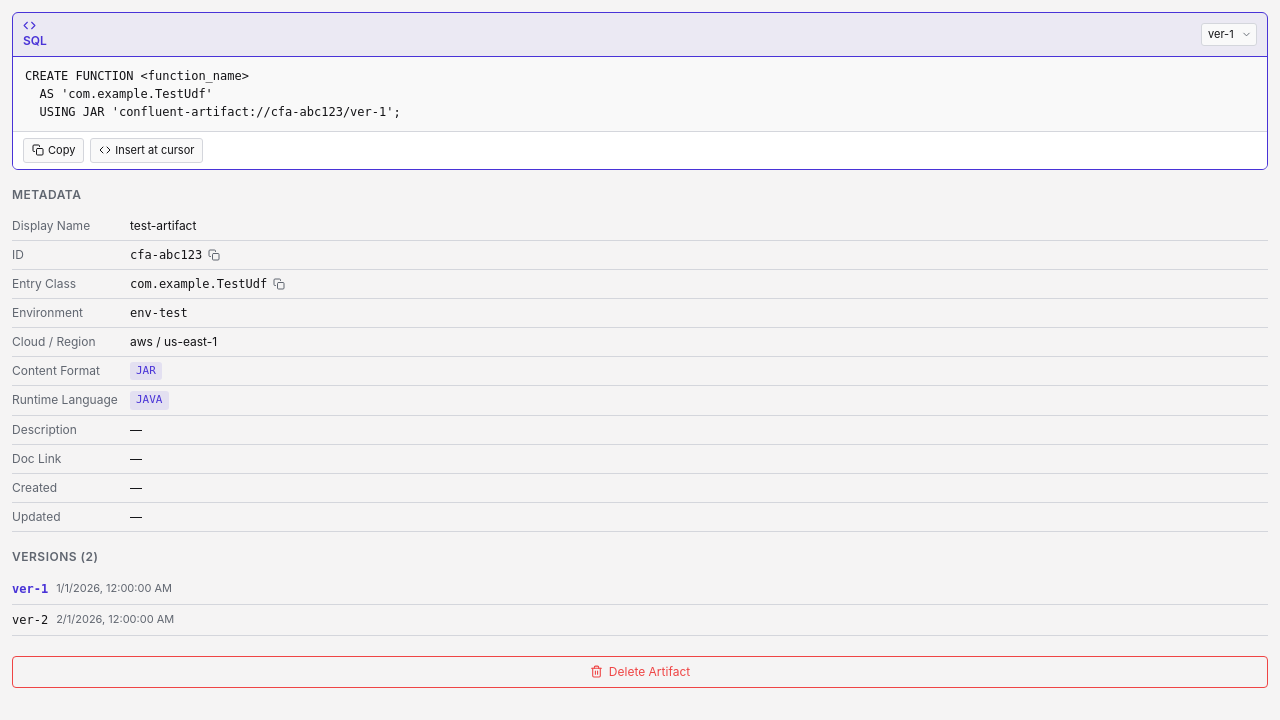
Test: [@artifact-detail] ArtifactDetail › updates SQL snippet when version changes
Select "ver-2" in the dropdown named "Select artifact version" at (1229, 35), box [1201,23,1257,46]
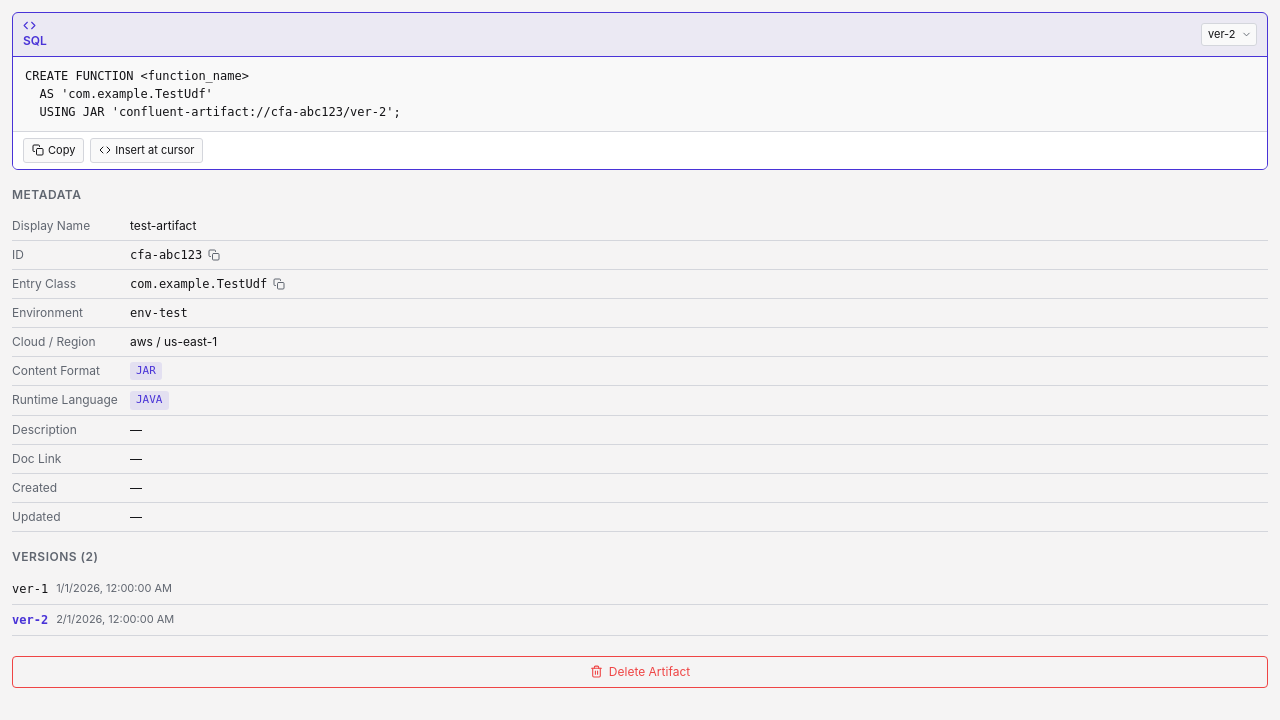
Now the text "ver-2" is shown, box [25,69,401,119]
